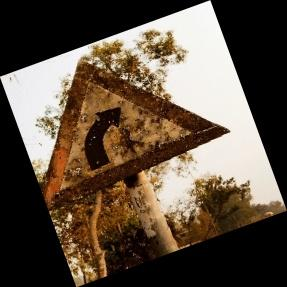Right-turn: (40, 57, 233, 198)
